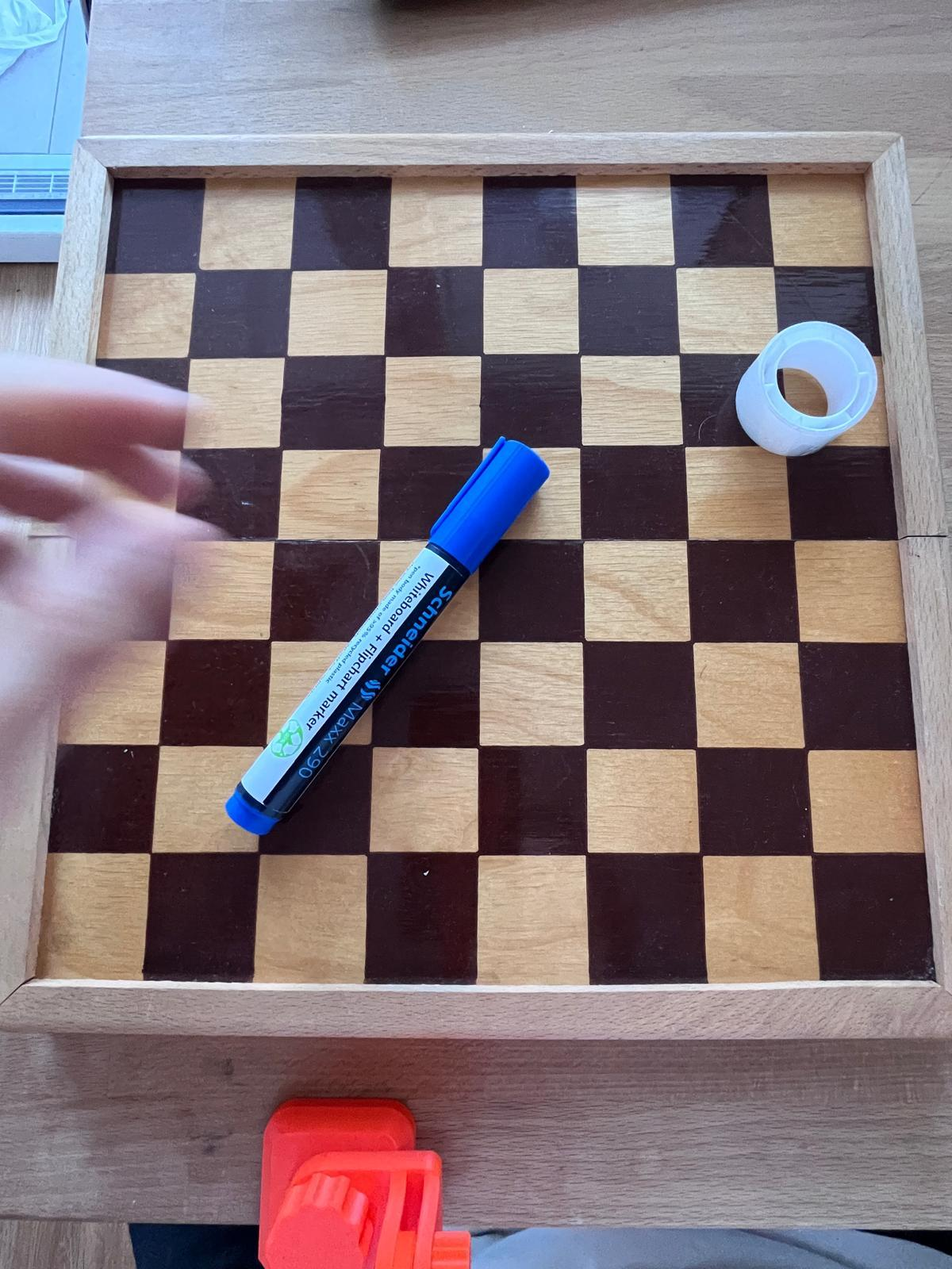marker: (216, 443, 544, 841)
tape: (730, 320, 877, 455)
